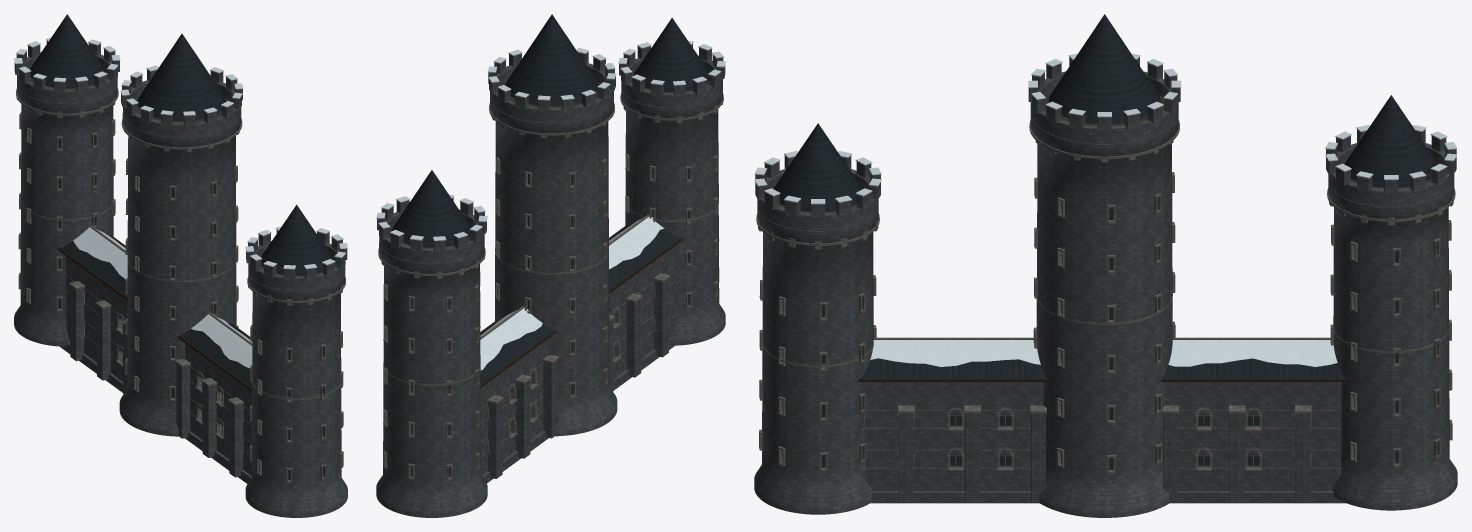
Rendered from maesters_towers.glb.
3 renders of one model, left to right at view 1: azimuth 30°, elevation 25°; view 2: azimuth 150°, elevation 25°; view 3: azimuth 270°, elevation 25°, orthographic. The views are drawn at different scales.
Parts seen in each view (by area): view 1: ENV_R5_Stone, ENV_R5_Slate, ENV_R5_Trim, ENV_R5_Snow, ENV_R5_Timber, ENV_R5_Dark; view 2: ENV_R5_Stone, ENV_R5_Slate, ENV_R5_Trim, ENV_R5_Snow, ENV_R5_Timber, ENV_R5_Dark; view 3: ENV_R5_Stone, ENV_R5_Slate, ENV_R5_Trim, ENV_R5_Snow, ENV_R5_Dark, ENV_R5_Timber.
Boxes of the visible parts, x1,y1,x2,y2 form: ENV_R5_Stone: (14, 40, 347, 517); ENV_R5_Slate: (30, 14, 333, 388); ENV_R5_Trim: (16, 88, 345, 483); ENV_R5_Snow: (14, 38, 347, 368); ENV_R5_Timber: (58, 235, 251, 391); ENV_R5_Dark: (58, 135, 322, 479); ENV_R5_Stone: (376, 43, 725, 517); ENV_R5_Slate: (392, 14, 709, 384); ENV_R5_Trim: (378, 93, 723, 480); ENV_R5_Snow: (376, 40, 725, 370); ENV_R5_Timber: (480, 224, 682, 387); ENV_R5_Dark: (411, 168, 689, 476); ENV_R5_Stone: (754, 57, 1457, 517); ENV_R5_Slate: (773, 14, 1437, 378); ENV_R5_Trim: (756, 120, 1455, 473); ENV_R5_Snow: (754, 53, 1456, 366); ENV_R5_Dark: (822, 202, 1398, 469); ENV_R5_Timber: (858, 378, 1347, 381).
Size of the model in its own units: 14.15 by 47.58 by 63.83.
9 materials, 8 textured.
